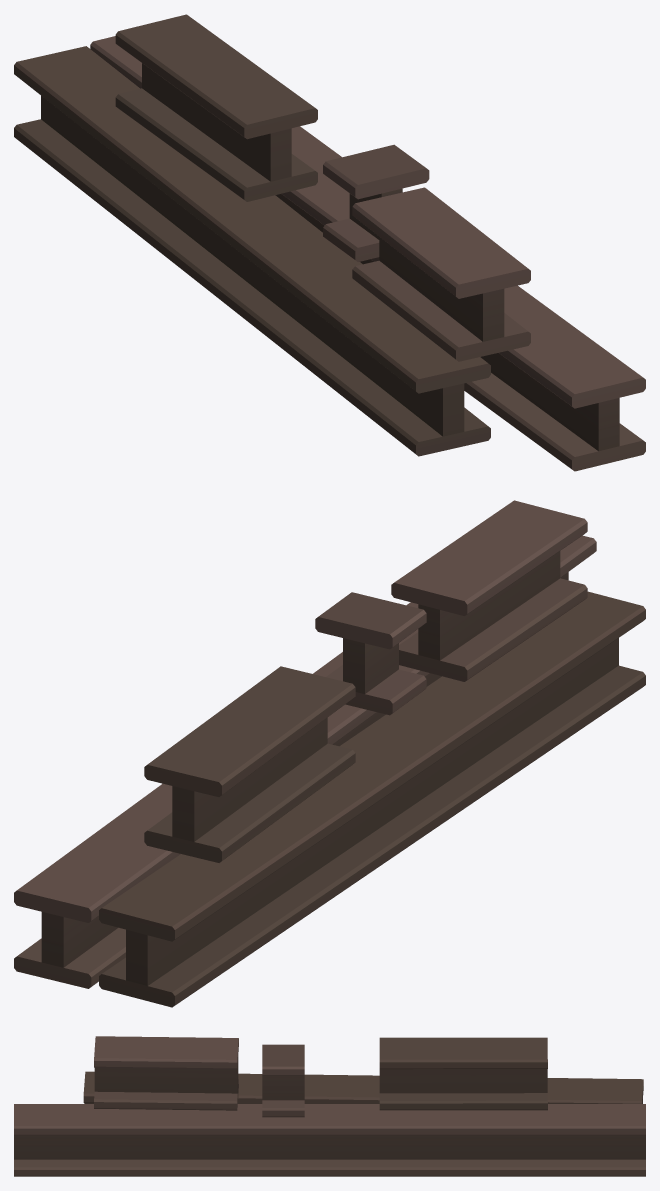
File: Rails_C_4_1.glb
3 renders of one model, top to bottom at view 1: azimuth 30°, elevation 25°; view 2: azimuth 150°, elevation 25°; view 3: azimuth 270°, elevation 25°, orthographic. The views are drawn at different scales.
Parts seen in each view (by area): view 1: Rails_C_4_1; view 2: Rails_C_4_1; view 3: Rails_C_4_1.
Part boxes in pixels (x1,y1,x2,y2): Rails_C_4_1: [14, 14, 645, 471]; Rails_C_4_1: [14, 500, 645, 1007]; Rails_C_4_1: [14, 1036, 645, 1176].
Bounding box in the file's own units: 0.8898 × 0.7486 × 4.23.
1 material, 1 textured.
